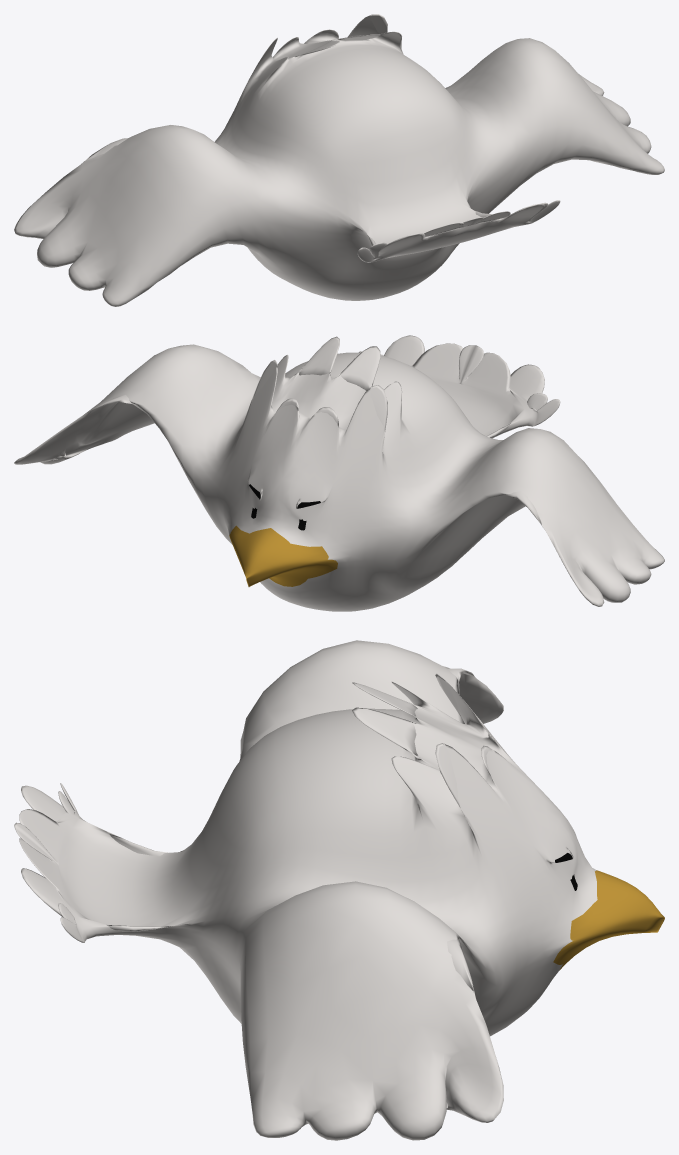
Rendered from predetor_plain.glb.
3 renders of one model, top to bottom at view 1: azimuth 30°, elevation 25°; view 2: azimuth 150°, elevation 25°; view 3: azimuth 270°, elevation 25°, orthographic. The views are drawn at different scales.
Visible parts, largest first — view 1: Cube; view 2: Cube; view 3: Cube.
Boxes of the visible parts, box(x1,y1,x2,y2) form: Cube: box(14, 14, 664, 306); Cube: box(14, 335, 664, 611); Cube: box(14, 640, 664, 1140).
Size of the model in its own units: 8.76 by 3.59 by 5.94.
